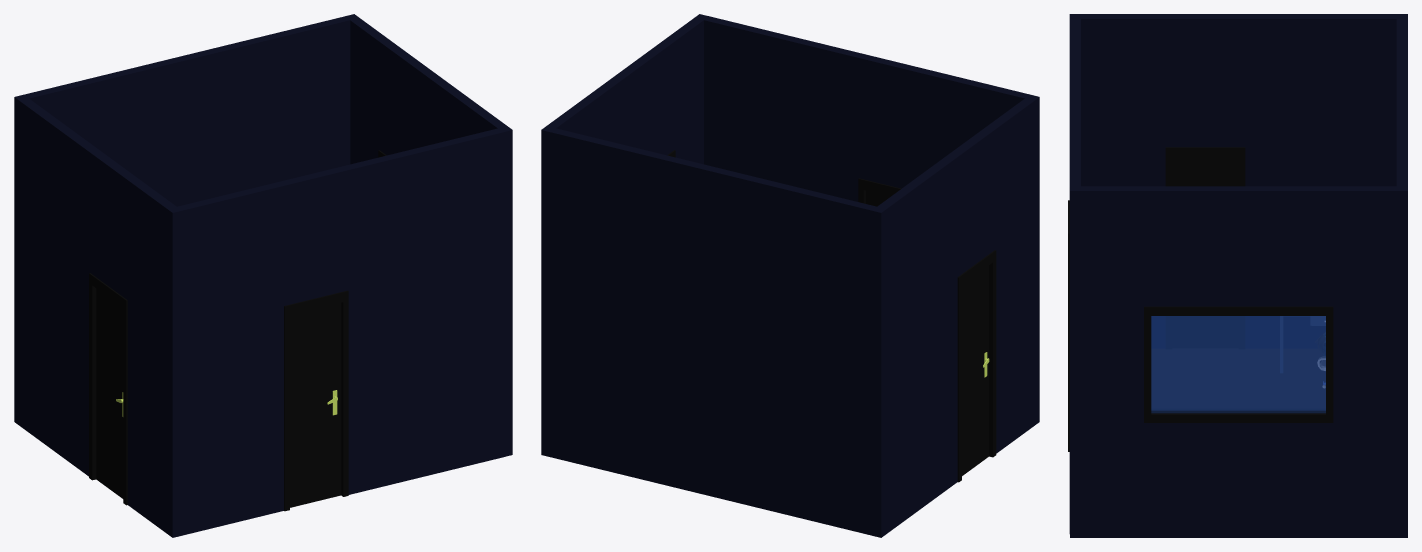
Rendered from Alex Room.FBX.
3 views of the same model, side by side, from view 1: azimuth 30°, elevation 25°; view 2: azimuth 150°, elevation 25°; view 3: azimuth 270°, elevation 25° (orthographic). The views are drawn at different scales.
Visible parts, largest first — view 1: Alex Room, Door 1, Door 2; view 2: Alex Room, Door 2; view 3: Alex Room, Door 2.
Boxes of the visible parts, x1,y1,x2,y2 form: Alex Room: (14, 14, 512, 537); Door 1: (290, 302, 341, 507); Door 2: (96, 288, 123, 498); Alex Room: (541, 14, 1039, 537); Door 2: (962, 266, 989, 475); Alex Room: (1068, 14, 1407, 537); Door 2: (1172, 158, 1238, 347).
Bounding box in the file's own units: 836 × 757 × 672.
